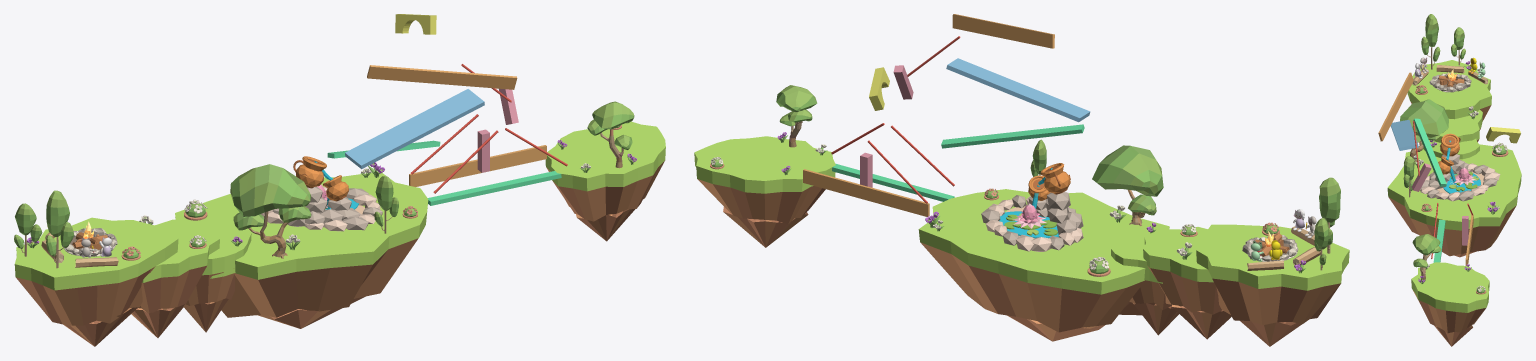
The model's file is sky_island_lowpoly.glb.
3 views of the same model, side by side, from view 1: azimuth 30°, elevation 25°; view 2: azimuth 150°, elevation 25°; view 3: azimuth 270°, elevation 25° (orthographic). The views are drawn at different scales.
Parts seen in each view (by area): view 1: Main playable floating island grass cap, Main playable floating island faceted cliff, Right high stair terrace grass cap, Separate clean small island grass cap, Right high stair terrace faceted cliff, BRIDGE_PIECE_01, garden decoration imported 01 tree tree_coral_crown part 03, Separate clean small island faceted cliff, Right middle stair terrace grass cap, BRIDGE_PIECE_11, BRIDGE_PIECE_12, Right middle stair terrace faceted cliff (+14 smaller); view 2: Main playable floating island grass cap, Main playable floating island faceted cliff, Separate clean small island grass cap, Right high stair terrace grass cap, Right high stair terrace faceted cliff, Separate clean small island faceted cliff, garden decoration imported 01 tree tree_coral_crown part 03, Right middle stair terrace grass cap, BRIDGE_PIECE_01, BRIDGE_PIECE_12, Right middle stair terrace faceted cliff, BRIDGE_PIECE_11 (+13 smaller); view 3: Main playable floating island grass cap, Separate clean small island grass cap, Right high stair terrace grass cap, Main playable floating island faceted cliff, garden decoration imported 01 tree tree_coral_crown part 03, Separate clean small island faceted cliff, Right middle stair terrace grass cap, BRIDGE_PIECE_01, BRIDGE_PIECE_11, BRIDGE_PIECE_06, Right lower stair terrace grass cap, fire imported plate_0 (+16 smaller).
Part boxes in pixels (x1=…): Main playable floating island grass cap: x1=175, y1=172, x2=428, y2=279; Main playable floating island faceted cliff: x1=214, y1=238, x2=418, y2=317; Right high stair terrace grass cap: x1=14, y1=217, x2=178, y2=290; Separate clean small island grass cap: x1=545, y1=121, x2=665, y2=191; Right high stair terrace faceted cliff: x1=16, y1=266, x2=155, y2=325; BRIDGE_PIECE_01: x1=345, y1=89, x2=484, y2=169; garden decoration imported 01 tree tree_coral_crown part 03: x1=230, y1=164, x2=311, y2=216; Separate clean small island faceted cliff: x1=546, y1=161, x2=664, y2=221; Right middle stair terrace grass cap: x1=142, y1=219, x2=219, y2=282; BRIDGE_PIECE_11: x1=367, y1=65, x2=517, y2=89; BRIDGE_PIECE_12: x1=409, y1=145, x2=546, y2=186; Right middle stair terrace faceted cliff: x1=137, y1=265, x2=206, y2=313; Main playable floating island grass cap: x1=918, y1=189, x2=1169, y2=294; Main playable floating island faceted cliff: x1=920, y1=242, x2=1154, y2=332; Separate clean small island grass cap: x1=694, y1=136, x2=835, y2=193; Right high stair terrace grass cap: x1=1196, y1=224, x2=1349, y2=290; Right high stair terrace faceted cliff: x1=1212, y1=278, x2=1340, y2=325; Separate clean small island faceted cliff: x1=697, y1=179, x2=825, y2=224; garden decoration imported 01 tree tree_coral_crown part 03: x1=1092, y1=145, x2=1163, y2=196; Right middle stair terrace grass cap: x1=1143, y1=227, x2=1213, y2=282; BRIDGE_PIECE_01: x1=946, y1=58, x2=1090, y2=122; BRIDGE_PIECE_12: x1=803, y1=169, x2=929, y2=217; Right middle stair terrace faceted cliff: x1=1148, y1=266, x2=1221, y2=314; BRIDGE_PIECE_11: x1=952, y1=14, x2=1054, y2=48; Main playable floating island grass cap: x1=1387, y1=144, x2=1521, y2=230; Separate clean small island grass cap: x1=1411, y1=262, x2=1489, y2=312; Right high stair terrace grass cap: x1=1407, y1=60, x2=1491, y2=119; Main playable floating island faceted cliff: x1=1388, y1=197, x2=1515, y2=256; garden decoration imported 01 tree tree_coral_crown part 03: x1=1400, y1=99, x2=1448, y2=137; Separate clean small island faceted cliff: x1=1413, y1=290, x2=1485, y2=333; Right middle stair terrace grass cap: x1=1434, y1=109, x2=1482, y2=142; BRIDGE_PIECE_01: x1=1391, y1=120, x2=1418, y2=150; BRIDGE_PIECE_11: x1=1378, y1=72, x2=1413, y2=141; BRIDGE_PIECE_06: x1=1413, y1=118, x2=1446, y2=186; Right lower stair terrace grass cap: x1=1422, y1=138, x2=1479, y2=159; fire imported plate_0: x1=1429, y1=73, x2=1471, y2=92.
Size of the model in its own units: 15.47 by 6.36 by 4.2.
115 materials, 4 textured.
